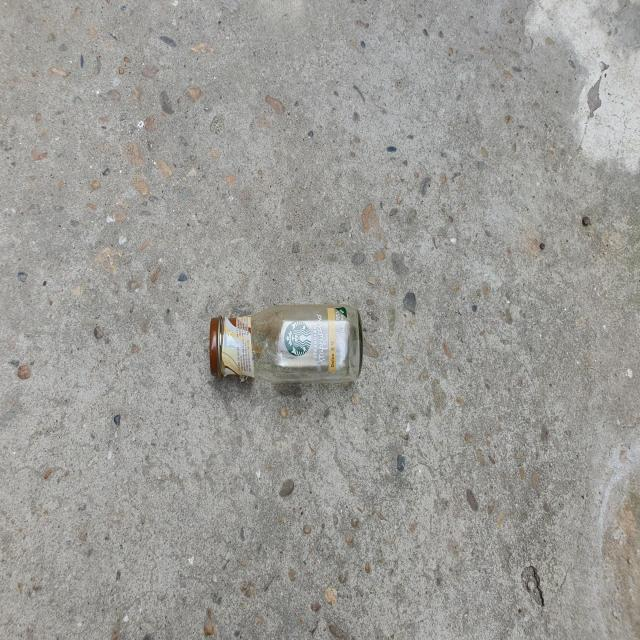glass: (210, 304, 363, 383)
